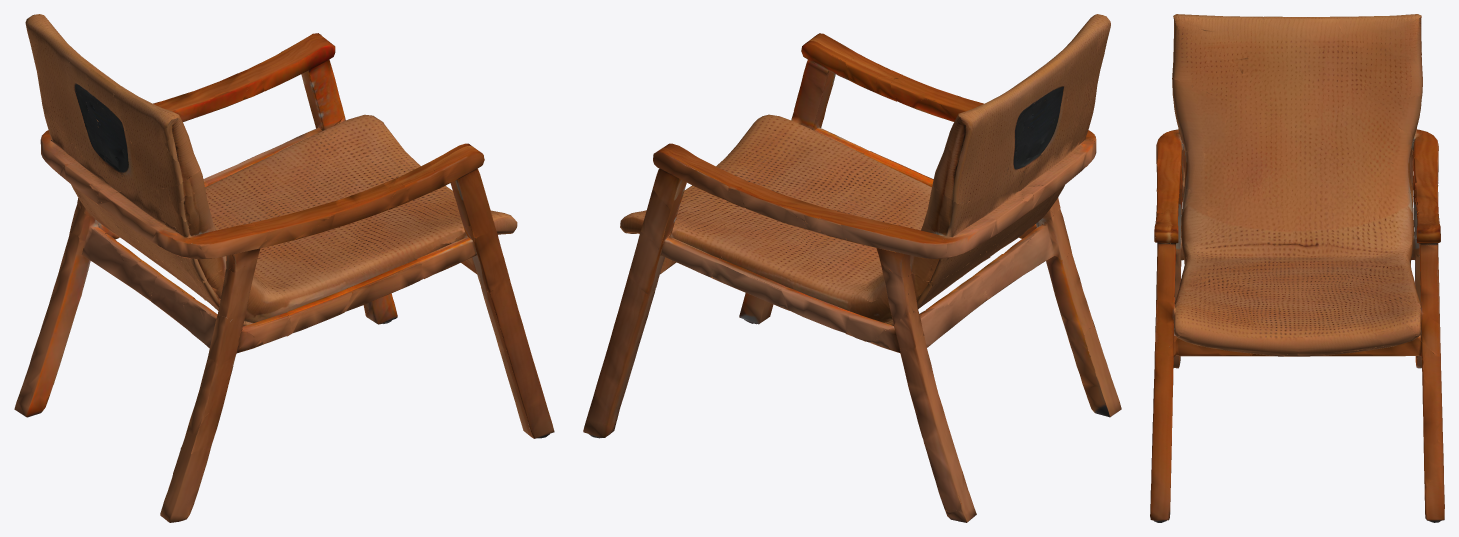
File: chair-tripo.glb
The picture shows the model from 3 angles, left to right: view 1: azimuth 30°, elevation 25°; view 2: azimuth 150°, elevation 25°; view 3: azimuth 270°, elevation 25°; orthographic projection. The views are drawn at different scales.
Visible parts, largest first — view 1: tripo_node_054587e5-d123-4db4-aea1-31e880a601c7; view 2: tripo_node_054587e5-d123-4db4-aea1-31e880a601c7; view 3: tripo_node_054587e5-d123-4db4-aea1-31e880a601c7.
Part boxes in pixels (box(x1,y1,x2,y2)): tripo_node_054587e5-d123-4db4-aea1-31e880a601c7: box(14, 14, 554, 522); tripo_node_054587e5-d123-4db4-aea1-31e880a601c7: box(583, 14, 1121, 522); tripo_node_054587e5-d123-4db4-aea1-31e880a601c7: box(1150, 14, 1444, 522).
Size of the model in its own units: 0.9883 by 1 by 0.7563.
Materials: 1 (1 with a texture image).
